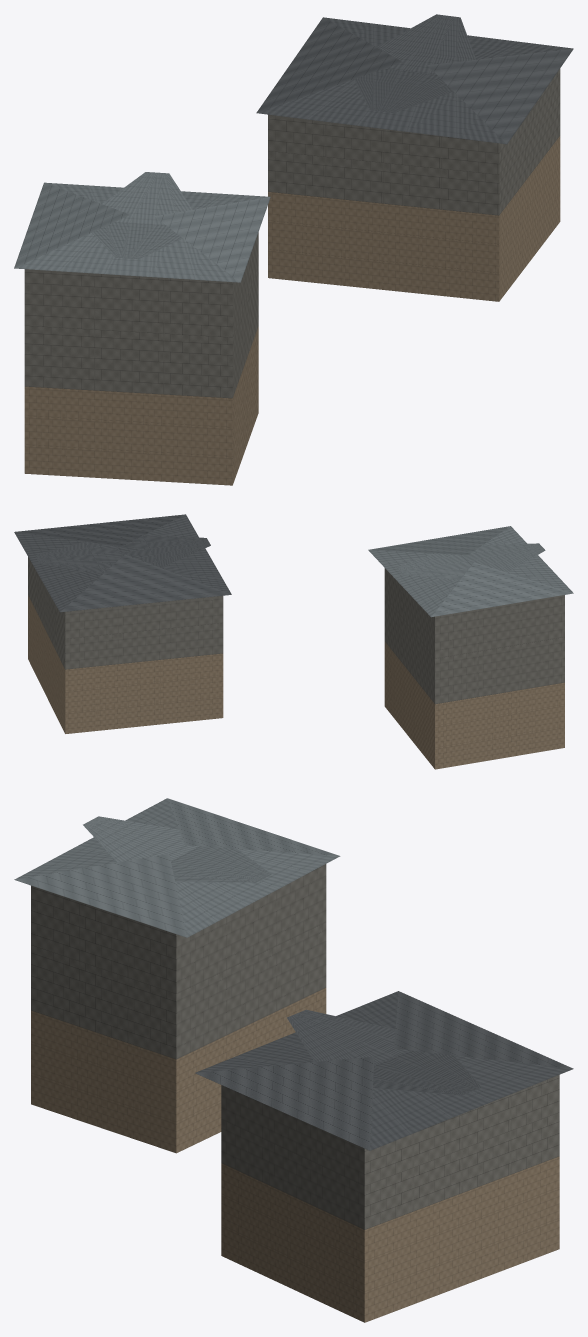
The model's file is bld_c10_11_497.gltf.
3 views of the same model, one above another, from view 1: azimuth 30°, elevation 25°; view 2: azimuth 150°, elevation 25°; view 3: azimuth 270°, elevation 25° (orthographic). The views are drawn at different scales.
Visible parts, largest first — view 1: bld_c10_11_497; view 2: bld_c10_11_497; view 3: bld_c10_11_497.
Part boxes in pixels (bbox=[...]): bld_c10_11_497: bbox=[14, 14, 573, 485]; bld_c10_11_497: bbox=[14, 514, 573, 769]; bld_c10_11_497: bbox=[14, 798, 573, 1322].
Bounding box in the file's own units: 40.03 × 13.2 × 27.57.
Materials: 4 (4 with a texture image).
